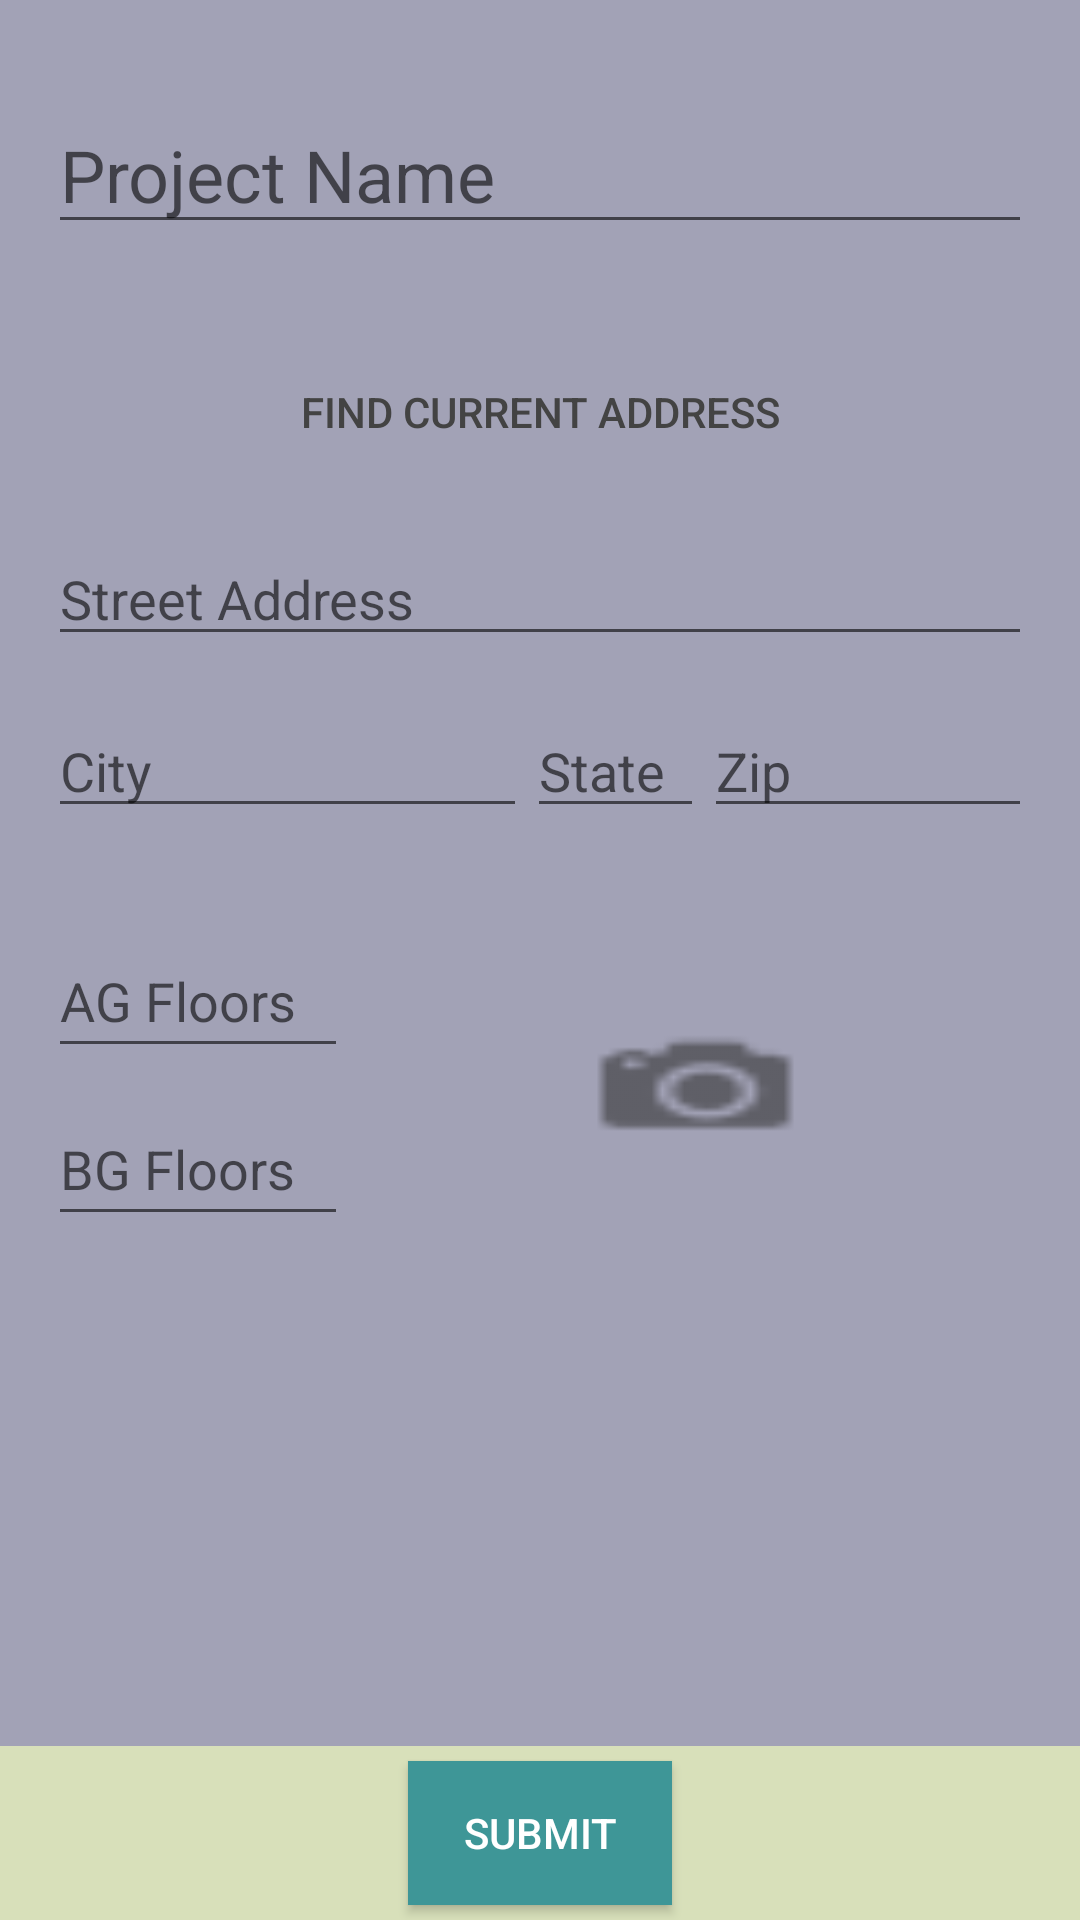

Icons on this 1080*1920 Android screen, each with the point to tap as [x,y]:
camera: [695,1085]
